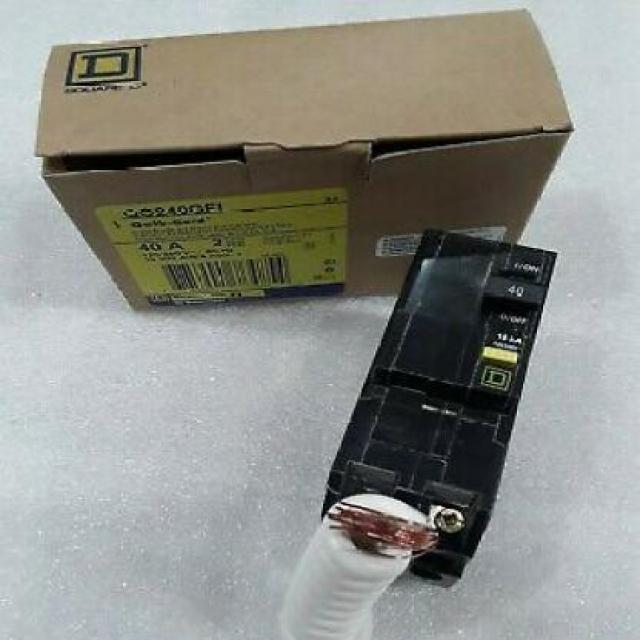box: (24, 6, 570, 318), (321, 232, 570, 594)
